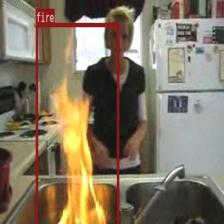fire: (36, 22, 119, 224)
